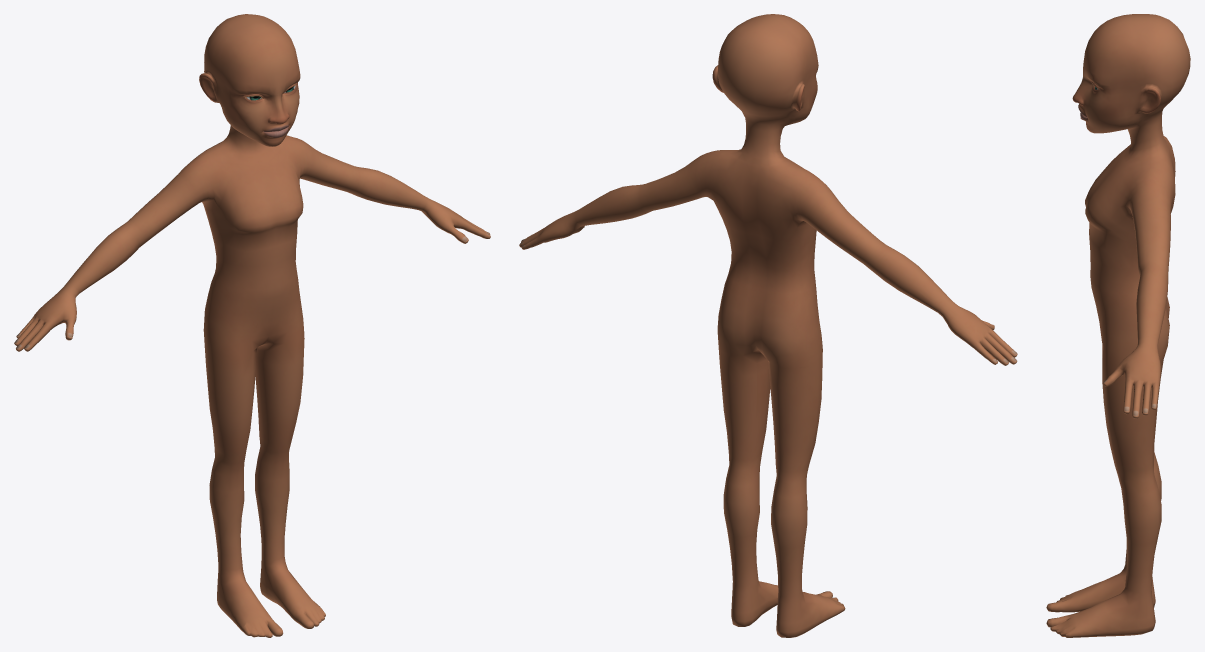
File: frame_0063.glb
3 renders of one model, left to right at view 1: azimuth 30°, elevation 25°; view 2: azimuth 150°, elevation 25°; view 3: azimuth 270°, elevation 25°, orthographic. The views are drawn at different scales.
Visible parts, largest first — view 1: frame_0063_head_geo; view 2: frame_0063_head_geo; view 3: frame_0063_head_geo.
Boxes of the visible parts, x1,y1,x2,y2 form: frame_0063_head_geo: [14, 14, 490, 637]; frame_0063_head_geo: [519, 14, 1017, 637]; frame_0063_head_geo: [1046, 14, 1190, 637].
Bounding box in the file's own units: 1.28 × 1.5 × 0.3253.
3 materials, 3 textured.
